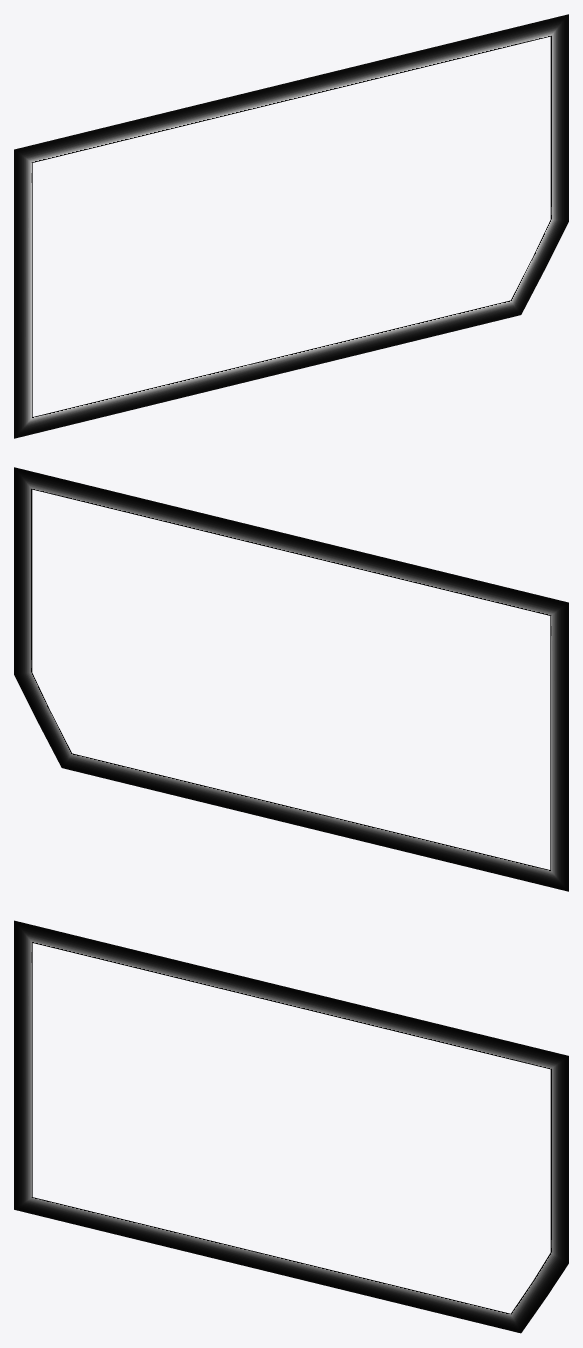
The model's file is liubian_chang03_zhuxianrenwu02.FBX.
3 renders of one model, top to bottom at view 1: azimuth 30°, elevation 25°; view 2: azimuth 150°, elevation 25°; view 3: azimuth 330°, elevation 25°, orthographic.
Parts seen in each view (by area): view 1: Plane002; view 2: Plane002; view 3: Plane002.
Boxes of the visible parts, x1=… form: Plane002: x1=14, y1=14, x2=568, y2=438; Plane002: x1=14, y1=467, x2=568, y2=891; Plane002: x1=14, y1=920, x2=568, y2=1333.
Bounding box in the file's own units: 150 × 74.8 × 3.16e-06.
1 material, 1 textured.
